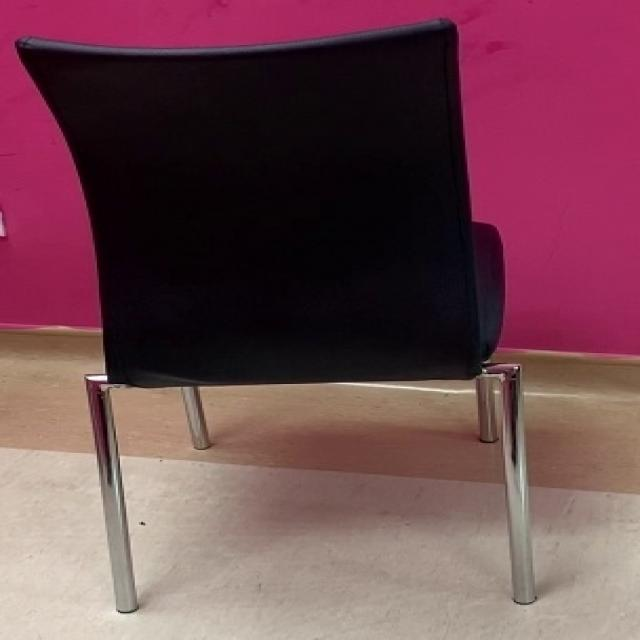Chair: (11, 18, 541, 615)
